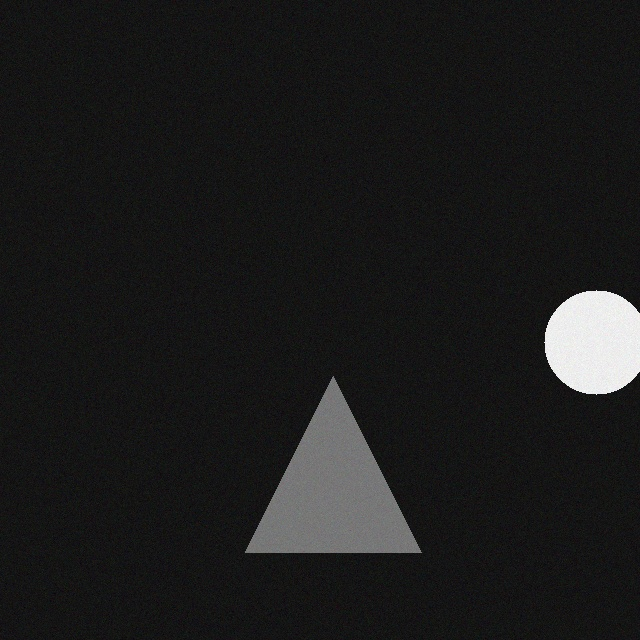circle: (534, 276, 638, 380)
triangle: (235, 362, 411, 538)
